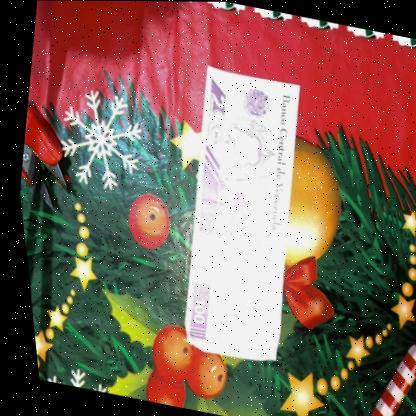one_hundred-back-vef: (150, 64, 324, 366)
